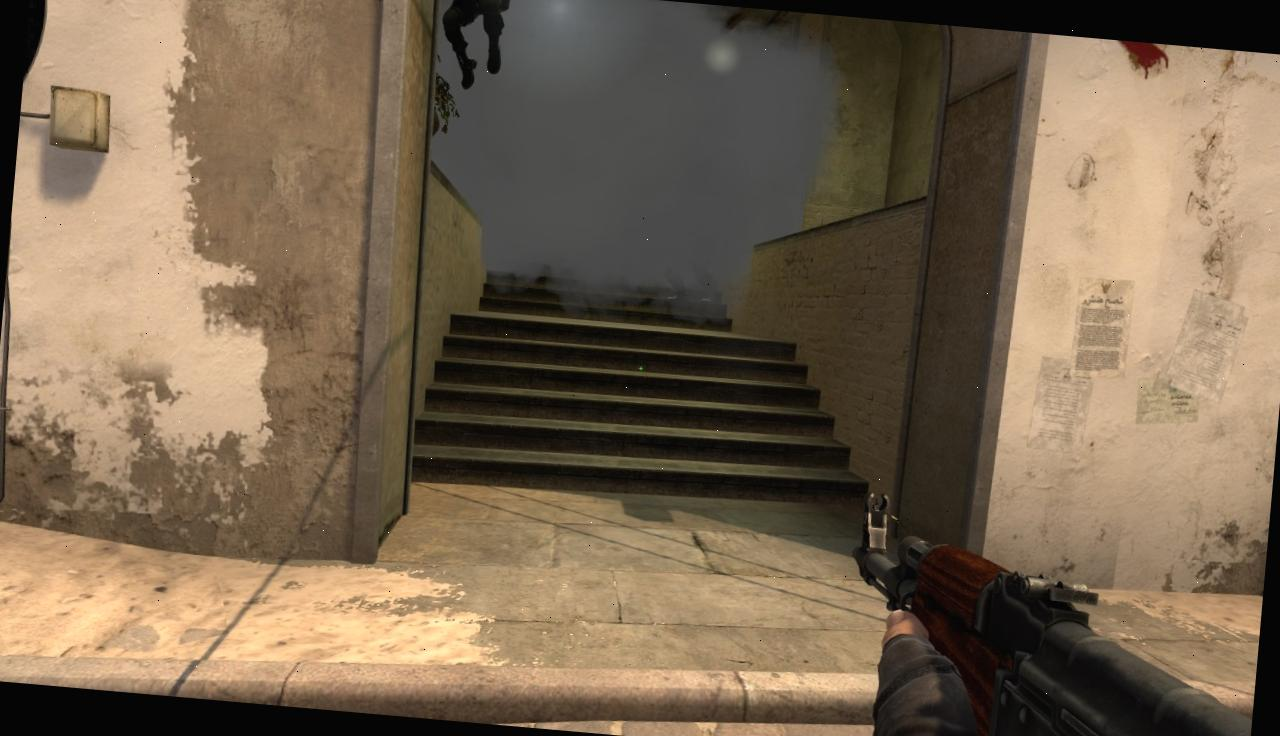ct: (435, 0, 510, 93)
rifle: (836, 496, 1267, 736)
